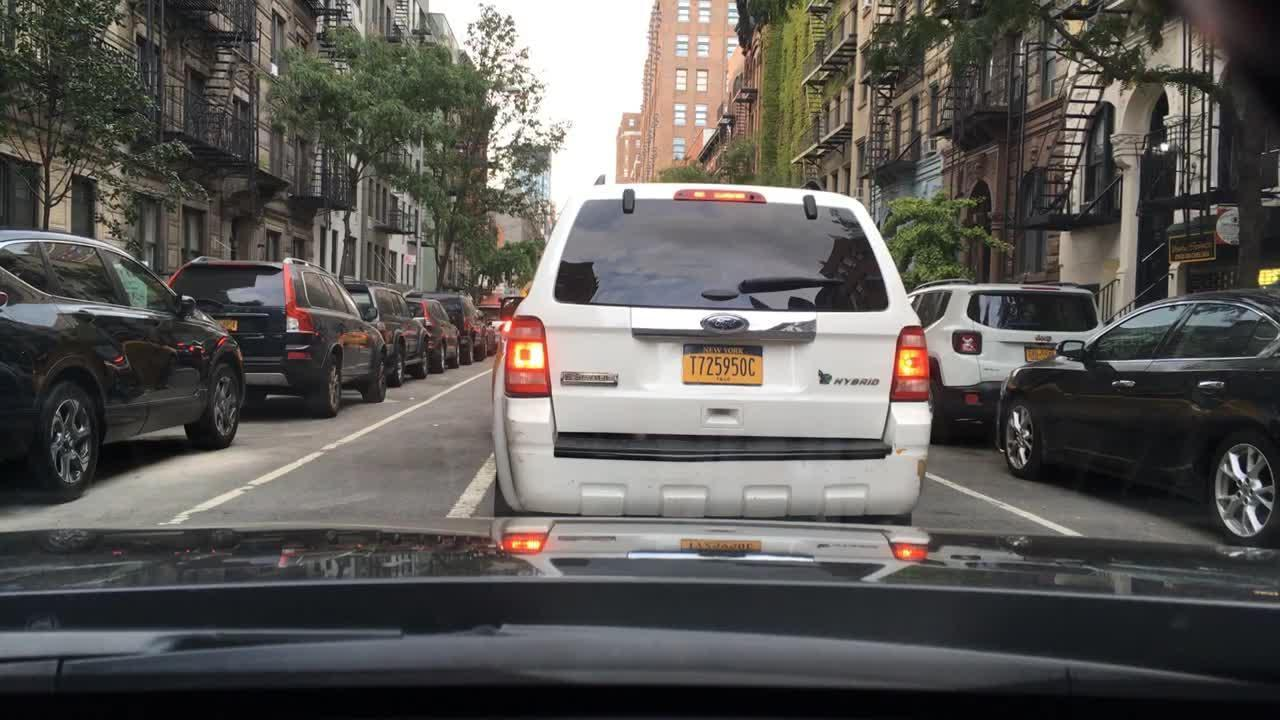ford: (699, 310, 761, 340)
jeep: (1028, 330, 1058, 345)
